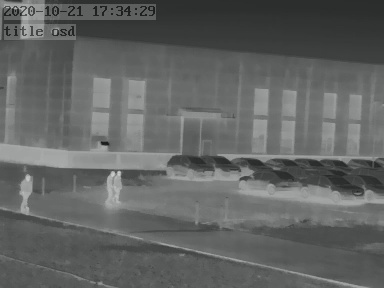person: (19, 172, 31, 214), (106, 170, 121, 203)
vehicle: (306, 173, 359, 200), (239, 169, 302, 191), (165, 153, 212, 178), (349, 173, 383, 200), (204, 153, 242, 177), (233, 155, 269, 171), (262, 155, 295, 170), (348, 156, 380, 170), (318, 156, 347, 169), (295, 156, 324, 169)
